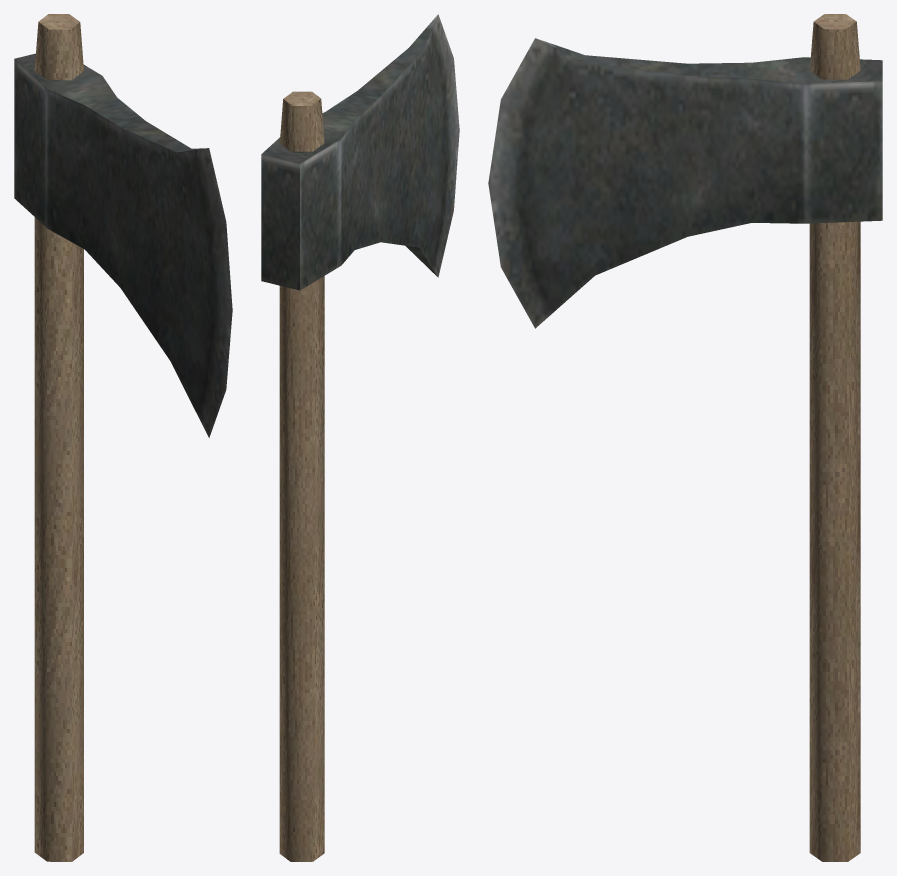
The model's file is wp_mle_axe_heavy_duty_l0.fbx.
3 renders of one model, left to right at view 1: azimuth 30°, elevation 25°; view 2: azimuth 150°, elevation 25°; view 3: azimuth 270°, elevation 25°, orthographic. The views are drawn at different scales.
Parts seen in each view (by area): view 1: mesh_node; view 2: mesh_node; view 3: mesh_node.
Part boxes in pixels (x1,y1,x2,y2): mesh_node: [14, 14, 232, 861]; mesh_node: [261, 14, 459, 861]; mesh_node: [488, 14, 882, 861].
Bounding box in the file's own units: 0.067 × 0.9714 × 0.4176.
